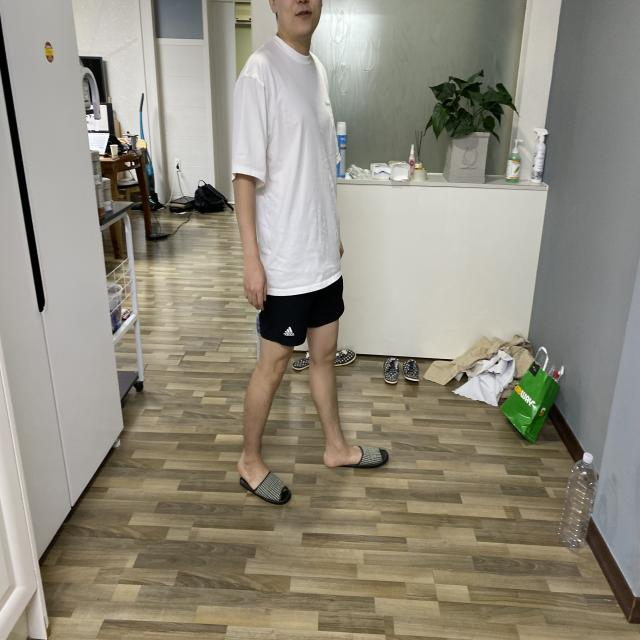no-boots: (233, 454, 299, 521), (316, 438, 401, 482)
